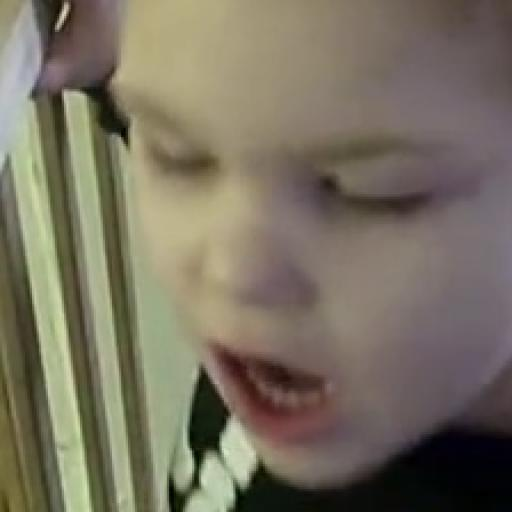Autism: (93, 5, 512, 512)
